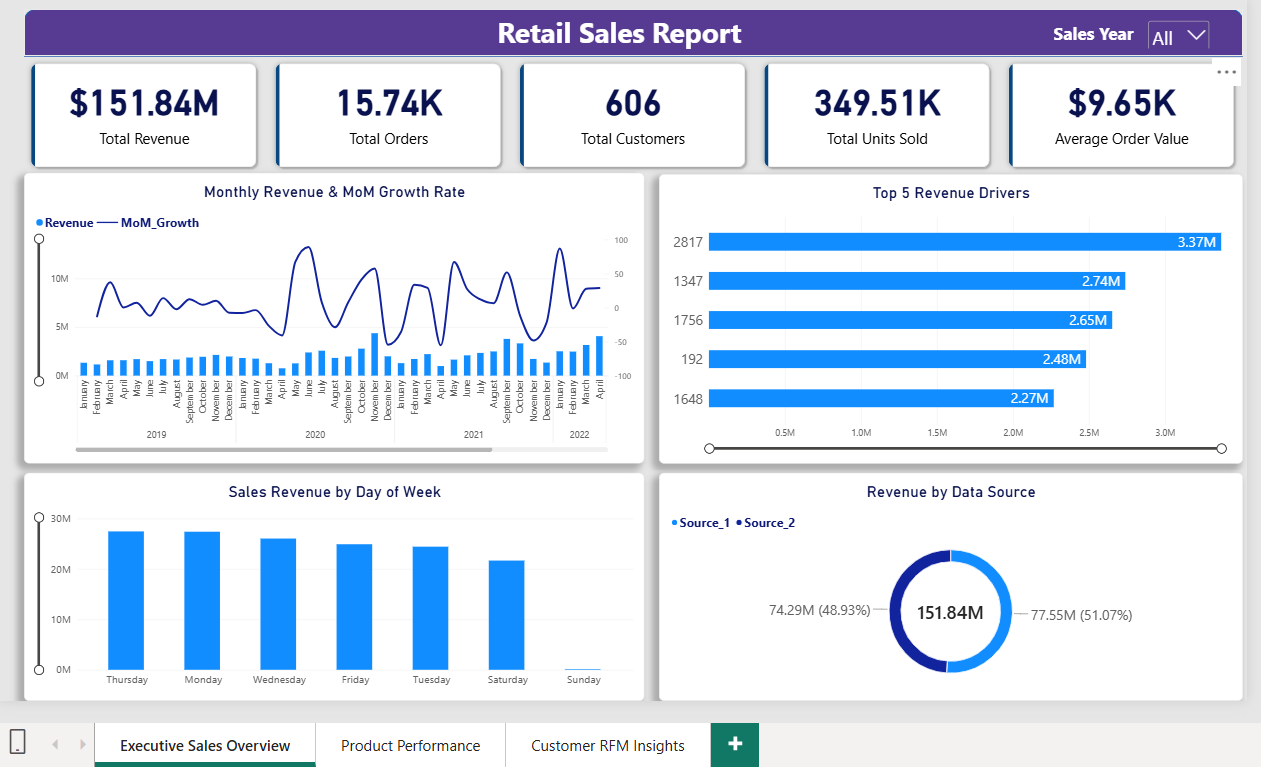

What the dashboard file says about the page in this screenshot:
{"tool":"powerbi","page":{"name":"Executive Sales Overview","canvas":[1920,1080],"ordinal":0},"visuals":[{"type":"cardVisual","fields":{"Data":["_Measures.Total Revenue","_Measures.Total Orders","_Measures.Total Customers","_Measures.Total Units Sold","_Measures.Average Order Value"]},"box":[37.7,88.7,1875.5,181.1],"z":0},{"type":"shape","box":[37.7,15.1,1875.5,73.6],"z":1000},{"type":"textbox","box":[683,20.8,543.4,62.3],"z":2000},{"type":"lineClusteredColumnComboChart","title":"Monthly Revenue & MoM Growth Rate","fields":{"Category":["vw_Monthly_Sales_Trend.SalesMonth.Variation.Date Hierarchy.Year","vw_Monthly_Sales_Trend.SalesMonth.Variation.Date Hierarchy.Month"],"Y":["Sum(vw_Monthly_Sales_Trend.Monthly_Revenue)"],"Y2":["Sum(vw_Monthly_Sales_Trend.MoM_Revenue_Growth_Percent)"]},"box":[37.7,267.9,954.7,447.2],"z":3000},{"type":"clusteredBarChart","title":"Top 5 Revenue Drivers","fields":{"Category":["vw_Product_Performance.ProductID"],"Y":["_Measures.Total Revenue"]},"box":[1015.1,269.8,898.1,445.3],"z":4000},{"type":"clusteredColumnChart","title":"Sales Revenue by Day of Week","fields":{"Category":["vw_Sales_Fact.DayOfWeekName"],"Y":["_Measures.Total Revenue"]},"box":[37.7,728.3,954.7,350.9],"z":5000},{"type":"donutChart","title":"Revenue by Data Source","fields":{"Category":["vw_Sales_Fact.DataSource"],"Y":["_Measures.Total Revenue"]},"box":[1015,728,898,351],"z":6000},{"type":"slicer","title":"Sales Year","fields":{"Values":["vw_Sales_Fact.SalesYear"]},"box":[1764.2,28.3,103.8,47.2],"z":7000},{"type":"textbox","box":[1603.8,34,160.4,41.5],"z":8000}]}

Visuals, with their boxes on the page's 1920x1080 design canvas (x1, y1, x2, y2). These are canvas units, not pixel positions in the 1261x767 screenshot, which may show the page scaled, cropped or inside an application window:
cardVisual - _Measures.Total Revenue x _Measures.Total Orders: pyautogui.locateOnScreen(38, 89, 1913, 270)
shape: pyautogui.locateOnScreen(38, 15, 1913, 89)
textbox: pyautogui.locateOnScreen(683, 21, 1226, 83)
"Monthly Revenue & MoM Growth Rate" lineClusteredColumnComboChart: pyautogui.locateOnScreen(38, 268, 992, 715)
"Top 5 Revenue Drivers" clusteredBarChart: pyautogui.locateOnScreen(1015, 270, 1913, 715)
"Sales Revenue by Day of Week" clusteredColumnChart: pyautogui.locateOnScreen(38, 728, 992, 1079)
"Revenue by Data Source" donutChart: pyautogui.locateOnScreen(1015, 728, 1913, 1079)
"Sales Year" slicer: pyautogui.locateOnScreen(1764, 28, 1868, 76)
textbox: pyautogui.locateOnScreen(1604, 34, 1764, 76)
